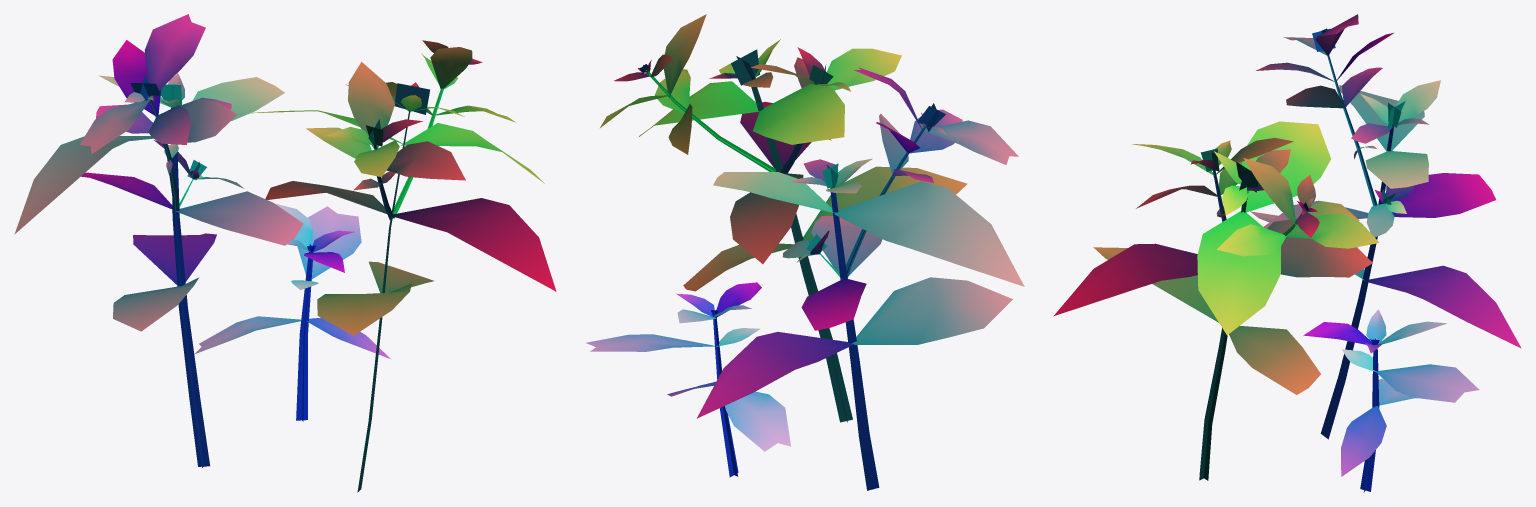
File: Common_Hemp_Nettle_xh1kdfbqx_Mid_xh1kdfbqx_VarD_LOD1.fbx
3 renders of one model, left to right at view 1: azimuth 30°, elevation 25°; view 2: azimuth 150°, elevation 25°; view 3: azimuth 270°, elevation 25°, orthographic. The views are drawn at different scales.
Parts seen in each view (by area): view 1: _w1vf_VarD_LOD3; view 2: _w1vf_VarD_LOD3; view 3: _w1vf_VarD_LOD3.
Part boxes in pixels (<box>): _w1vf_VarD_LOD3: <box>14,14,556,492</box>; _w1vf_VarD_LOD3: <box>585,14,1024,490</box>; _w1vf_VarD_LOD3: <box>1053,14,1521,492</box>.
Size of the model in its own units: 101 by 91.83 by 94.1.
